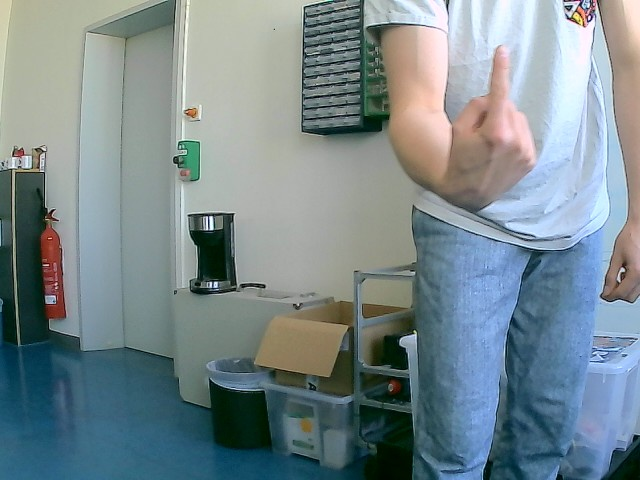6: (441, 44, 538, 212)
no_gesture: (591, 208, 640, 304)
